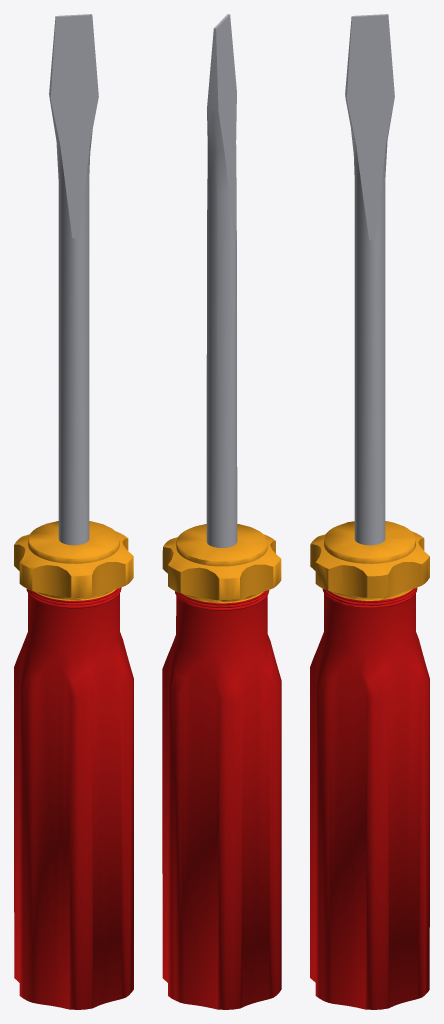
File: flathead_screwdriver.dae
The picture shows the model from 3 angles, left to right: view 1: azimuth 90°, elevation 25°; view 2: azimuth 150°, elevation 25°; view 3: azimuth 270°, elevation 25°; orthographic projection.
Parts seen in each view (by area): view 1: node_g2_red, node_g1_chrome, node_g0_amber; view 2: node_g2_red, node_g1_chrome, node_g0_amber; view 3: node_g2_red, node_g1_chrome, node_g0_amber.
Boxes of the visible parts, x1,y1,x2,y2 form: node_g2_red: (14,587,133,1009); node_g1_chrome: (49,14,98,545); node_g0_amber: (14,521,133,600); node_g2_red: (162,590,281,1009); node_g1_chrome: (206,14,237,547); node_g0_amber: (162,524,281,603); node_g2_red: (310,587,429,1009); node_g1_chrome: (345,14,394,545); node_g0_amber: (310,521,429,600).
Size of the model in its own units: 0.02 by 0.0195 by 0.175.
